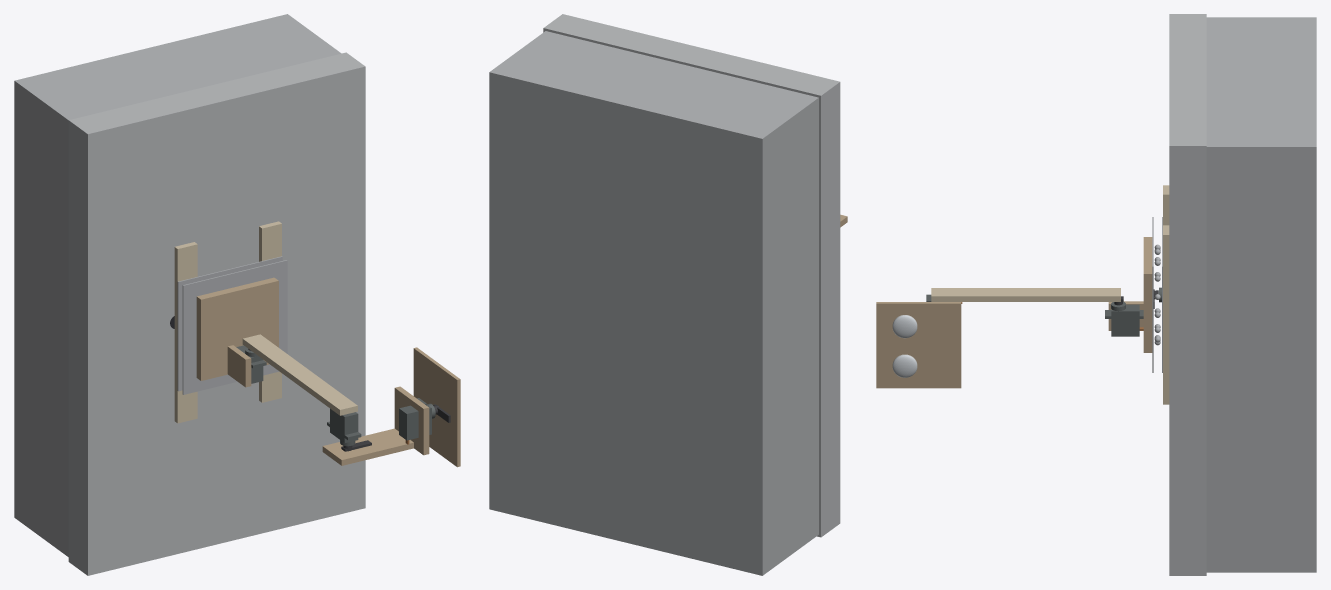
Rendered from bitch_upright.glb.
The picture shows the model from 3 angles, left to right: view 1: azimuth 30°, elevation 25°; view 2: azimuth 150°, elevation 25°; view 3: azimuth 270°, elevation 25°; orthographic projection. The views are drawn at different scales.
Parts seen in each view (by area): view 1: lid, box, turn_plate, head_panel, arm_stick, rail1, susan_top_b, neck_side, rail0, neck_front, susan_top_f, susan_top_l (+4 smaller); view 2: box, lid; view 3: box, lid, head_panel, arm_stick, rail0, turn_plate, s2_case.
Boxes of the visible parts, x1,y1,x2,y2 form: lid: (68,52,365,575); box: (14,14,341,556); turn_plate: (196,277,278,380); head_panel: (413,347,460,467); arm_stick: (242,334,357,415); rail1: (174,242,197,423); susan_top_b: (182,280,205,394); neck_side: (322,428,413,465); rail0: (259,221,281,402); neck_front: (394,386,429,455); susan_top_f: (265,260,287,374); susan_top_l: (205,265,265,293); box: (489,31,818,575); lid: (543,14,840,537); box: (1206,17,1316,572); lid: (1169,14,1206,575); head_panel: (876,302,961,388); arm_stick: (931,288,1120,301); rail0: (1163,225,1169,404); turn_plate: (1143,237,1152,352); s2_case: (1111,304,1139,336).
Size of the model in its own units: 0.25 by 0.38 by 0.3527.
